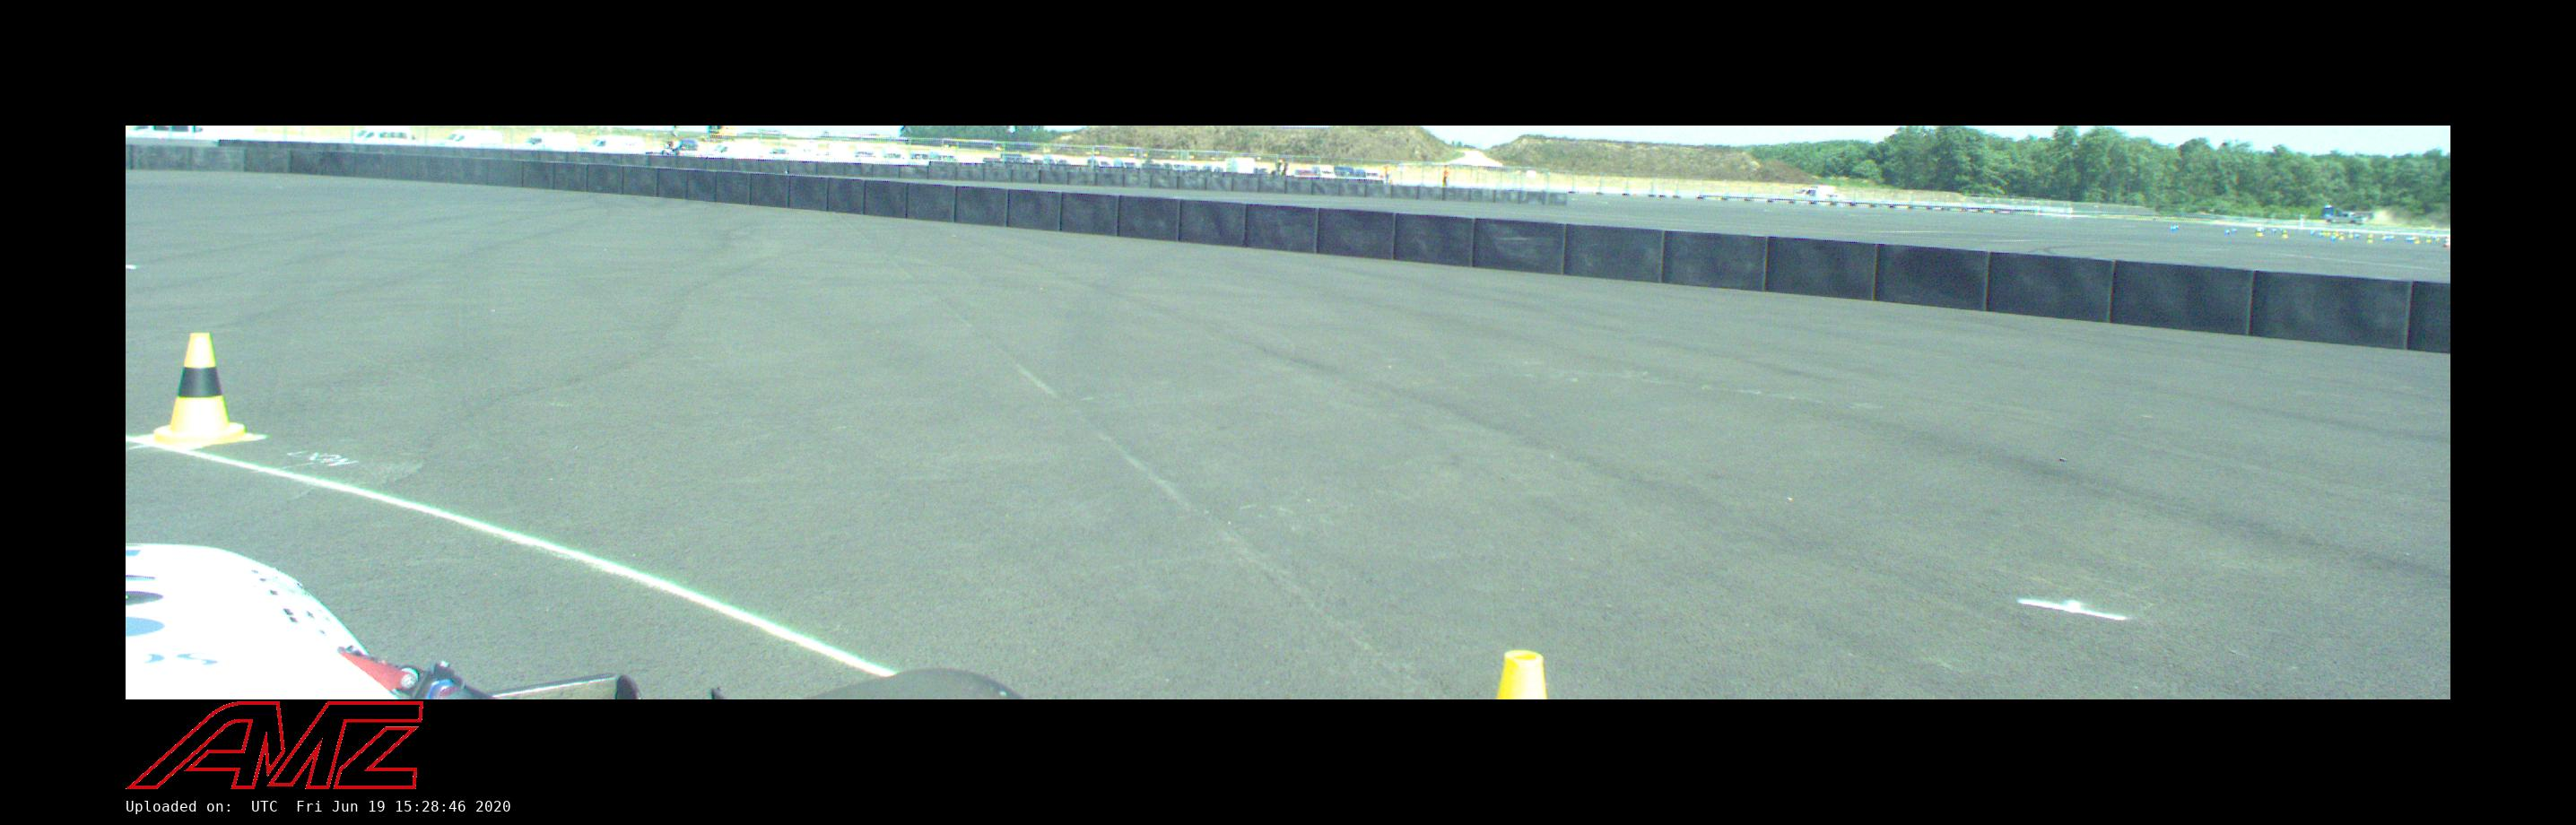yellow_cone: (146, 332, 258, 449)
